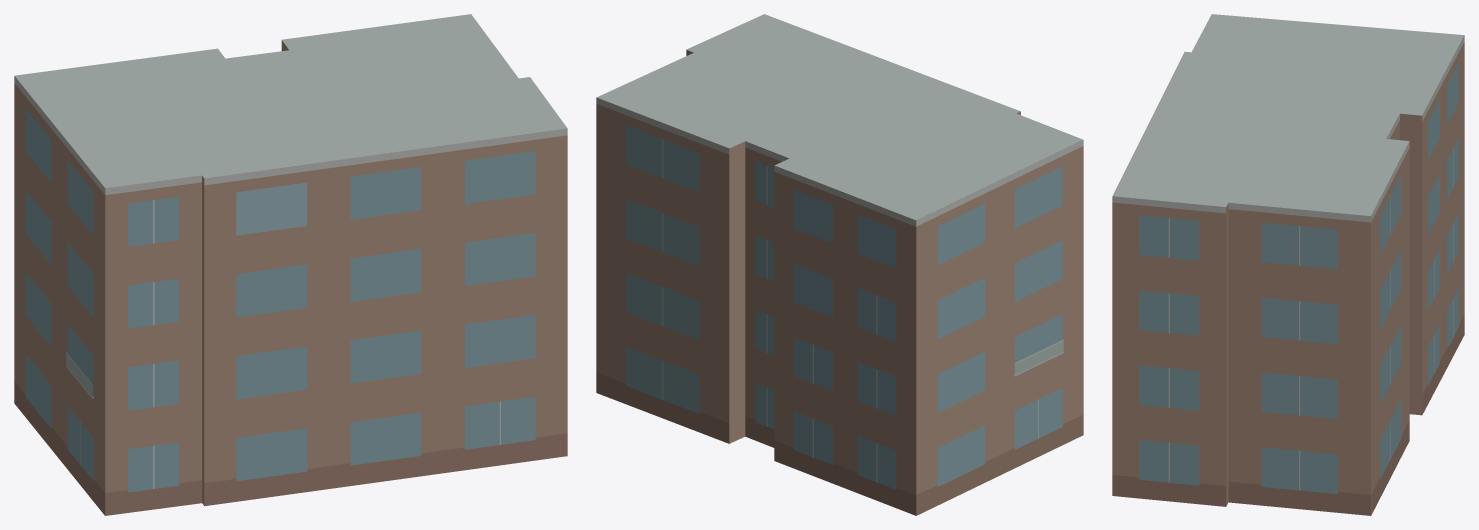
Rendered from survey-upis-33011938.glb.
3 views of the same model, side by side, from view 1: azimuth 30°, elevation 25°; view 2: azimuth 150°, elevation 25°; view 3: azimuth 270°, elevation 25° (orthographic). The views are drawn at different scales.
Parts seen in each view (by area): view 1: survey-upis-33011938.tmp; view 2: survey-upis-33011938.tmp; view 3: survey-upis-33011938.tmp.
Part boxes in pixels (x1,y1,x2,y2): survey-upis-33011938.tmp: (14, 14, 567, 515); survey-upis-33011938.tmp: (596, 14, 1083, 515); survey-upis-33011938.tmp: (1112, 14, 1464, 515).
Size of the model in its own units: 16.8 by 11.6 by 12.36.
